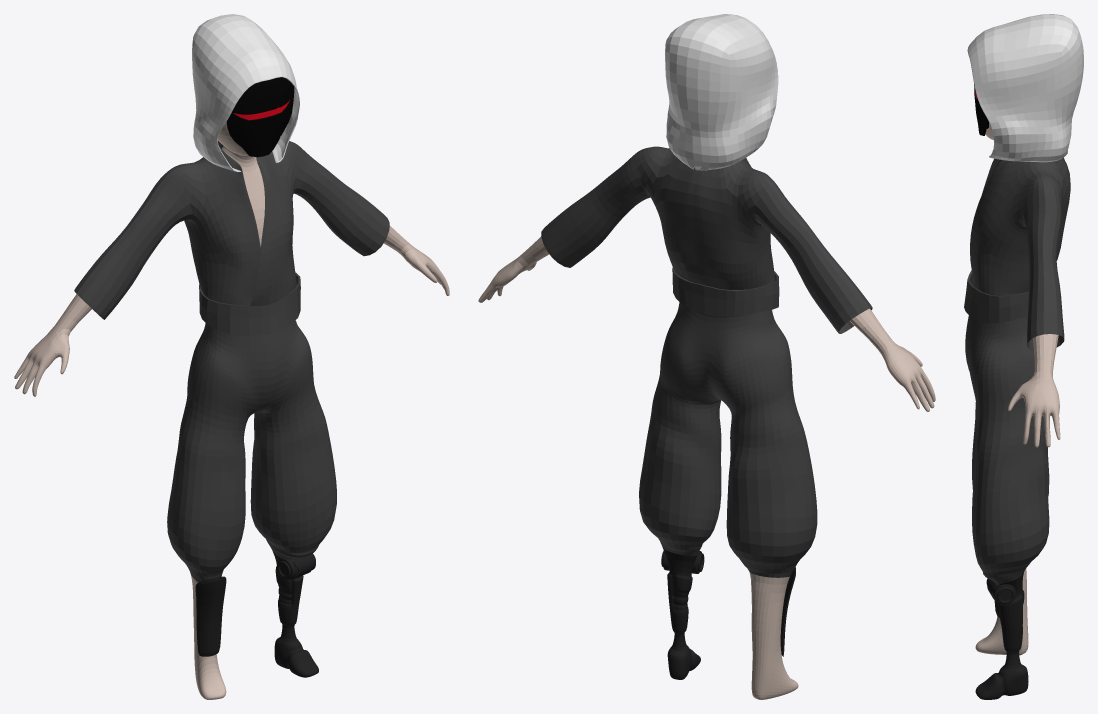
File: samurai-mesh-07.fbx
3 views of the same model, side by side, from view 1: azimuth 30°, elevation 25°; view 2: azimuth 150°, elevation 25°; view 3: azimuth 270°, elevation 25° (orthographic). The views are drawn at different scales.
Visible parts, largest first — view 1: Body, Body.002, Plane, Body.001, Body.003, Cylinder; view 2: Body, Body.002, Plane, Body.003; view 3: Body, Plane, Body.002, Body.003, Cylinder, Body.001.
Boxes of the visible parts, box(x1,y1,x2,y2) form: Body: box(14, 122, 449, 699); Body.002: box(74, 141, 389, 319); Plane: box(192, 14, 299, 172); Body.001: box(226, 77, 294, 157); Body.003: box(199, 272, 300, 335); Cylinder: box(277, 553, 315, 579); Body: box(478, 236, 935, 699); Body.002: box(541, 146, 872, 333); Plane: box(665, 14, 778, 170); Body.003: box(672, 267, 779, 316); Body: box(965, 122, 1060, 699); Plane: box(967, 14, 1083, 162); Body.002: box(970, 157, 1070, 351); Body.003: box(964, 270, 1028, 323); Cylinder: box(986, 578, 1016, 604); Body.001: box(974, 84, 988, 135).
Size of the model in its own units: 648 by 931 by 155.
